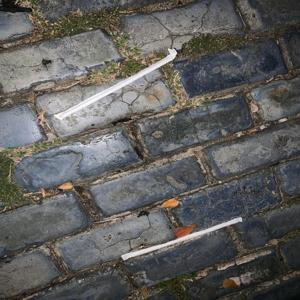paper: (40, 44, 188, 129), (114, 201, 248, 267)
